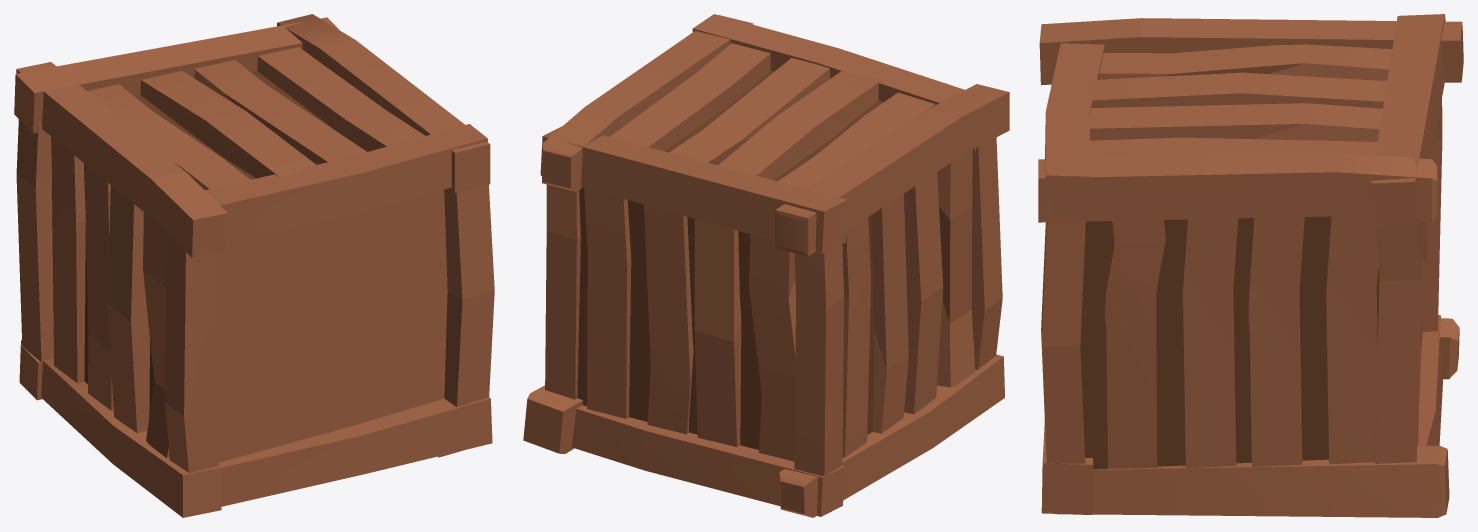
3 renders of one model, left to right at view 1: azimuth 30°, elevation 25°; view 2: azimuth 150°, elevation 25°; view 3: azimuth 270°, elevation 25°, orthographic. The views are drawn at different scales.
Parts seen in each view (by area): view 1: Cube.021; view 2: Cube.021; view 3: Cube.021.
Part boxes in pixels (<box>): Cube.021: <box>14,14,494,517</box>; Cube.021: <box>523,14,1009,517</box>; Cube.021: <box>1038,14,1463,517</box>.
Size of the model in its own units: 236 by 229 by 252.
